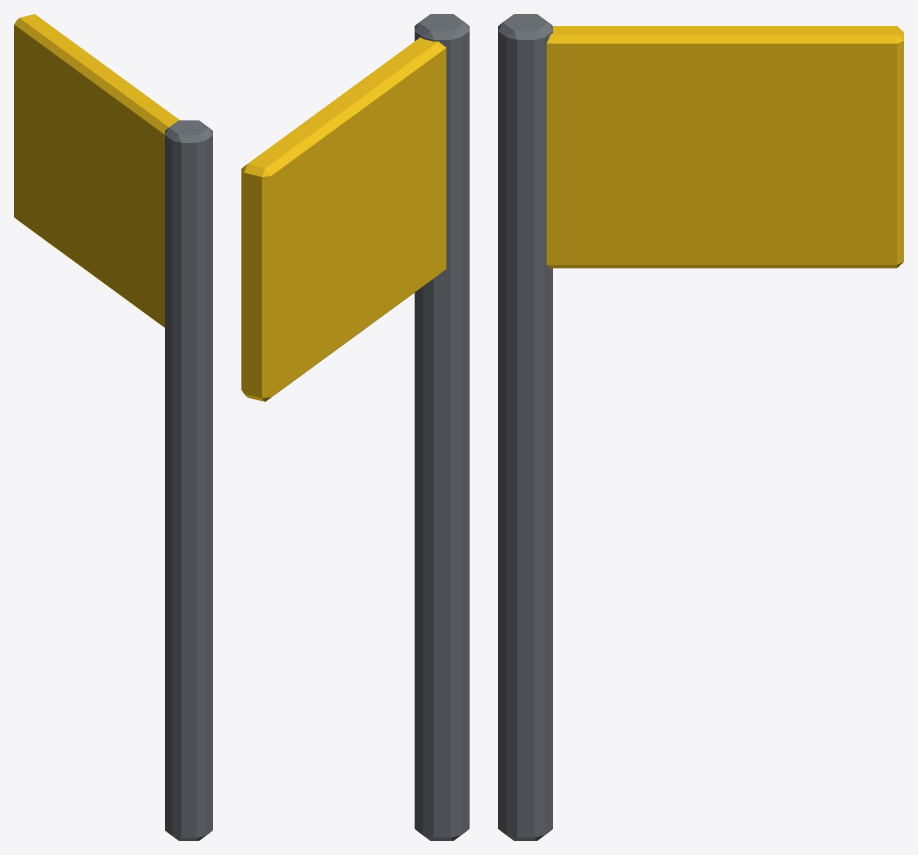
The model's file is bunting_flag.glb.
3 views of the same model, side by side, from view 1: azimuth 30°, elevation 25°; view 2: azimuth 150°, elevation 25°; view 3: azimuth 270°, elevation 25° (orthographic). The views are drawn at different scales.
Parts seen in each view (by area): view 1: bunting_flag; view 2: bunting_flag; view 3: bunting_flag.
Part boxes in pixels (<box>): bunting_flag: <box>14,14,212,840</box>; bunting_flag: <box>241,14,469,840</box>; bunting_flag: <box>498,14,903,840</box>.
Size of the model in its own units: 0.0312 by 0.52 by 0.236.
